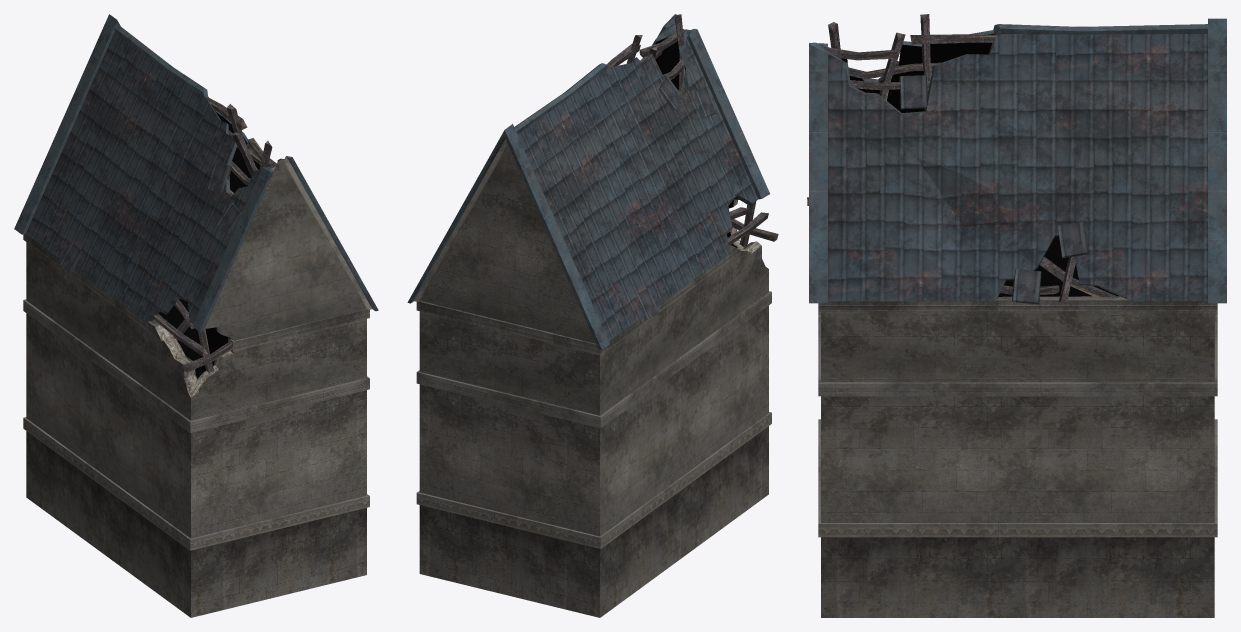
Rendered from bg_lut_lucastle_house07b_sm_ysi.FBX.
3 renders of one model, left to right at view 1: azimuth 30°, elevation 25°; view 2: azimuth 150°, elevation 25°; view 3: azimuth 270°, elevation 25°, orthographic. The views are drawn at different scales.
Parts seen in each view (by area): view 1: bg_lut_lucastle_house07b_sm_ysi; view 2: bg_lut_lucastle_house07b_sm_ysi; view 3: bg_lut_lucastle_house07b_sm_ysi.
Boxes of the visible parts, <box> form: bg_lut_lucastle_house07b_sm_ysi: <box>14,14,378,617</box>; bg_lut_lucastle_house07b_sm_ysi: <box>407,14,778,617</box>; bg_lut_lucastle_house07b_sm_ysi: <box>807,14,1226,617</box>.
Size of the model in its own units: 295 by 673 by 465.
